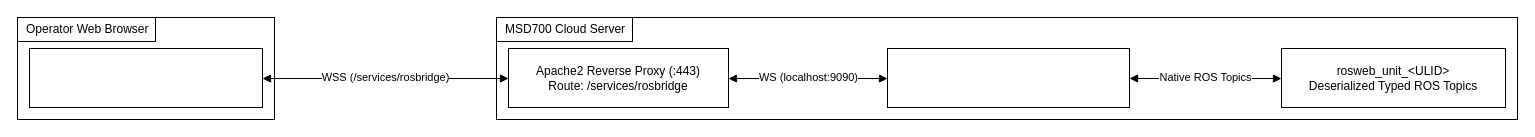
This 1535x137 diagram has some shape labels left out. The shapes that lost their labels are listed below. From the top down, each one's box as (x1, y1, x2, y2) in pixels, then its label:
(28, 48, 262, 108): ROS2D.js / roslibjs Map Canvas & Telemetry Display
(886, 48, 1130, 108): rosbridge_suite WebSocket Server (Port: 9090)
